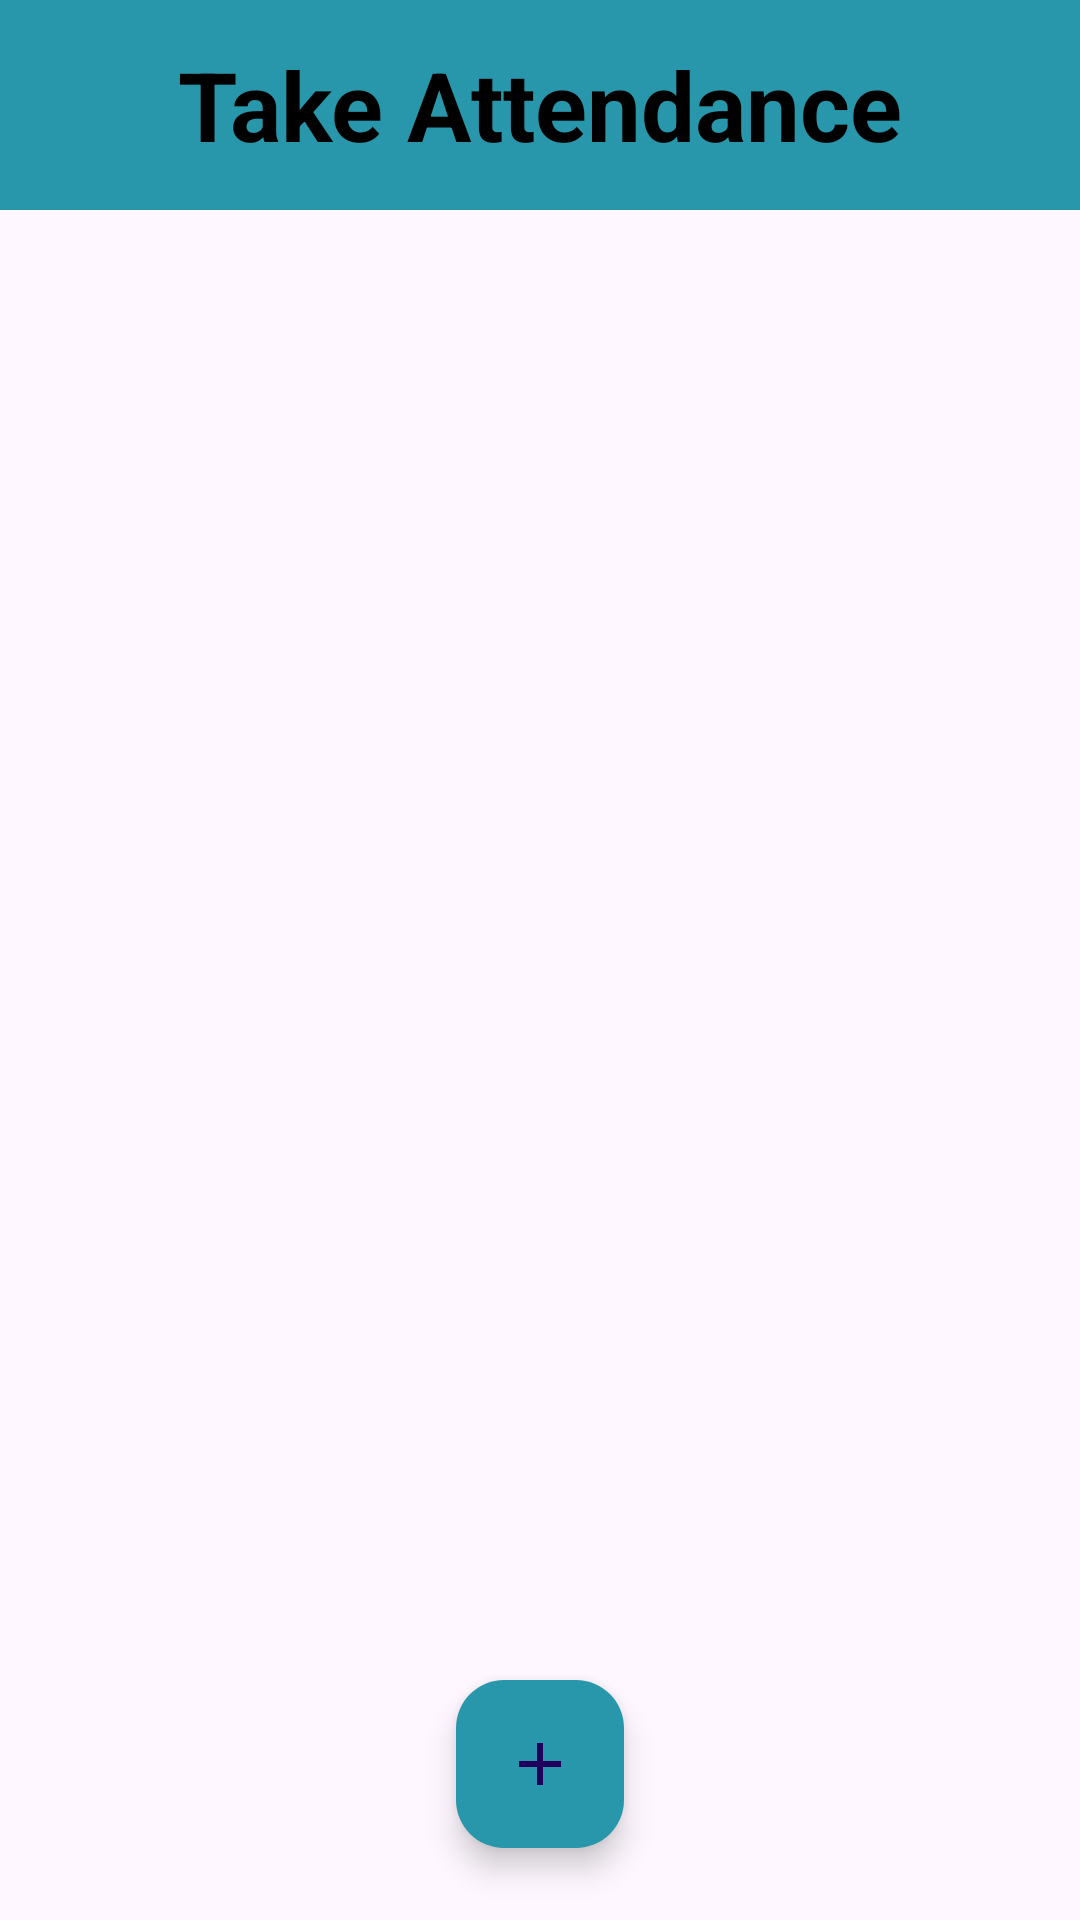

Point at icon controls on the screen. Image size 1080×1920, points as point (x, y).
add: point (540, 1764)
